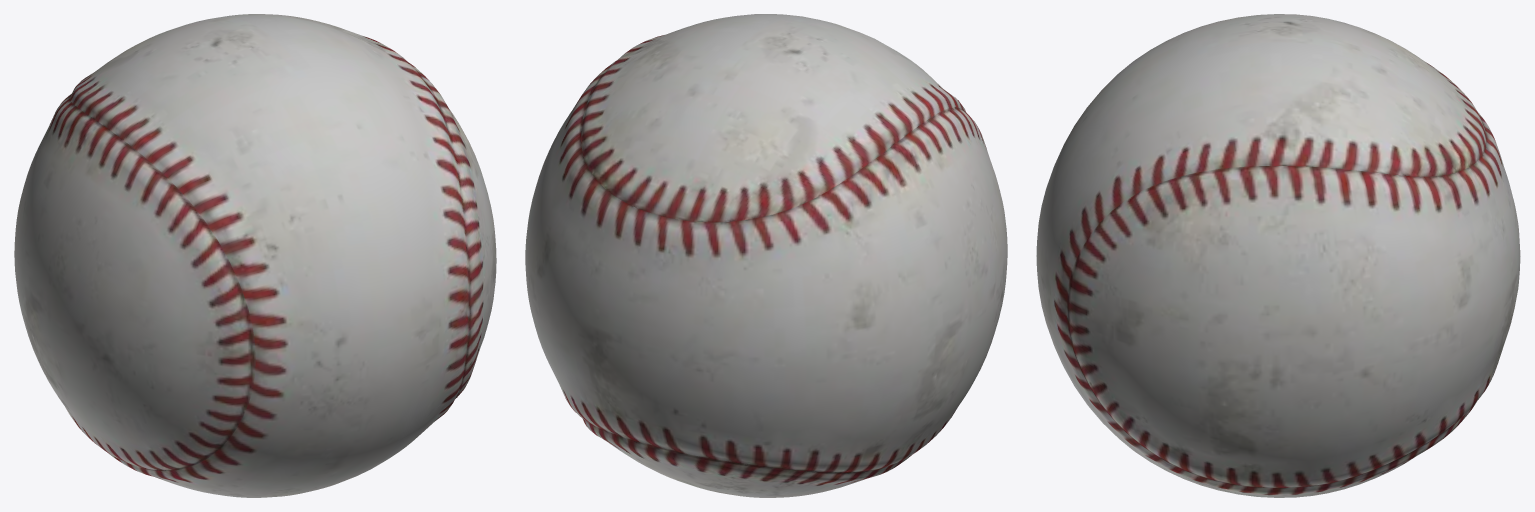
Rendered from baseball_01.584fed02.glb.
3 renders of one model, left to right at view 1: azimuth 30°, elevation 25°; view 2: azimuth 150°, elevation 25°; view 3: azimuth 270°, elevation 25°, orthographic.
Visible parts, largest first — view 1: baseball_01; view 2: baseball_01; view 3: baseball_01.
Boxes of the visible parts, <box> form: baseball_01: <box>14,14,496,497</box>; baseball_01: <box>525,14,1007,497</box>; baseball_01: <box>1036,14,1520,497</box>.
Bounding box in the file's own units: 0.7041 × 0.7215 × 0.72.
Materials: 1 (1 with a texture image).
